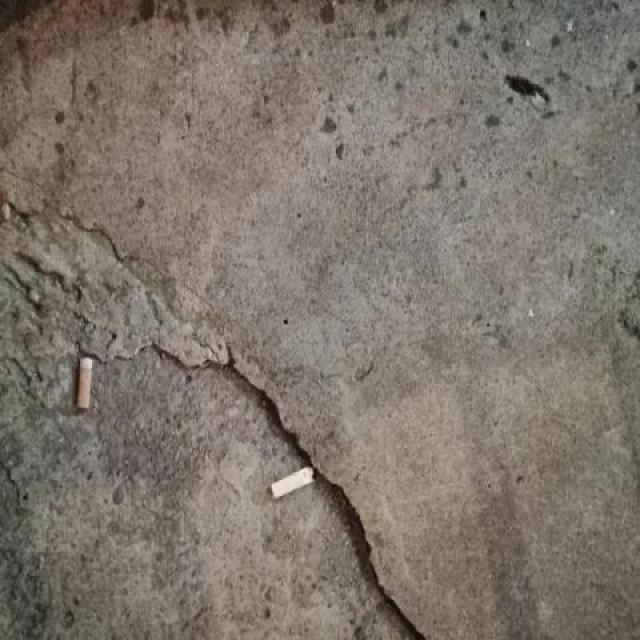non-organic waste: (267, 462, 318, 503), (73, 349, 95, 415)
